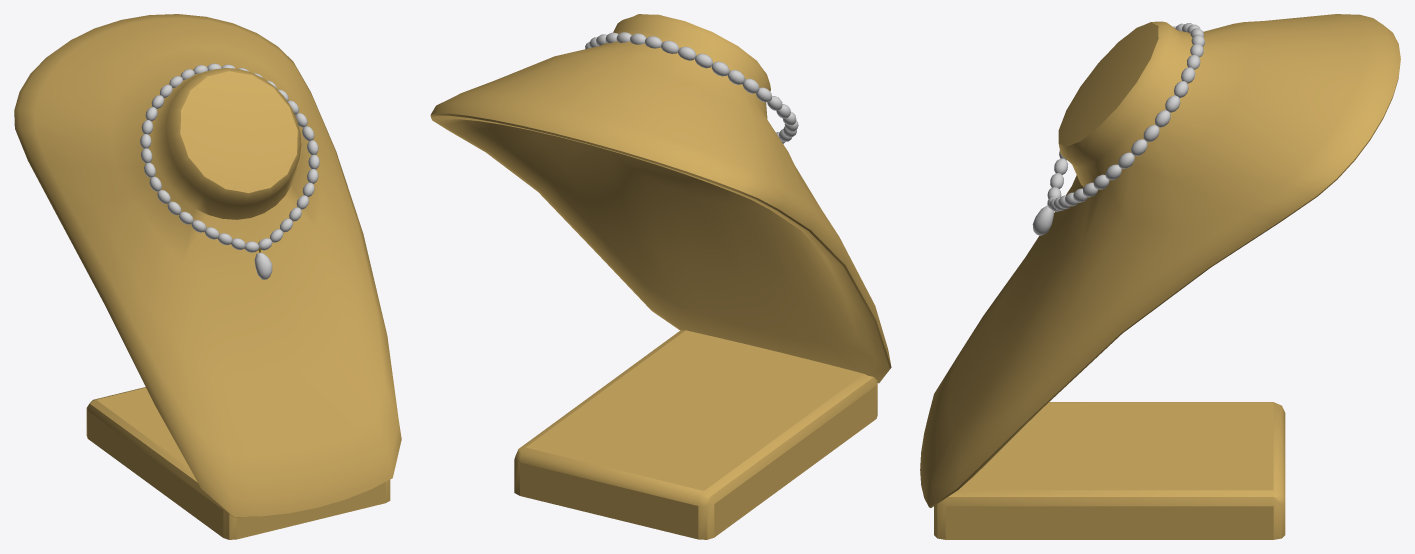
The model's file is Necklace_19.fbx.
3 views of the same model, side by side, from view 1: azimuth 30°, elevation 25°; view 2: azimuth 150°, elevation 25°; view 3: azimuth 270°, elevation 25° (orthographic). The views are drawn at different scales.
Parts seen in each view (by area): view 1: SM_Stand_Necklace_18, SM_Pearls; view 2: SM_Stand_Necklace_18, SM_Pearls; view 3: SM_Stand_Necklace_18, SM_Pearls.
Part boxes in pixels (box(x1,y1,x2,y2)): SM_Stand_Necklace_18: box(14, 14, 401, 539); SM_Pearls: box(140, 63, 319, 279); SM_Stand_Necklace_18: box(430, 14, 891, 539); SM_Pearls: box(585, 32, 798, 143); SM_Stand_Necklace_18: box(920, 14, 1400, 539); SM_Pearls: box(1032, 23, 1205, 235).
Size of the model in its own units: 22.51 by 29.29 by 27.78.
